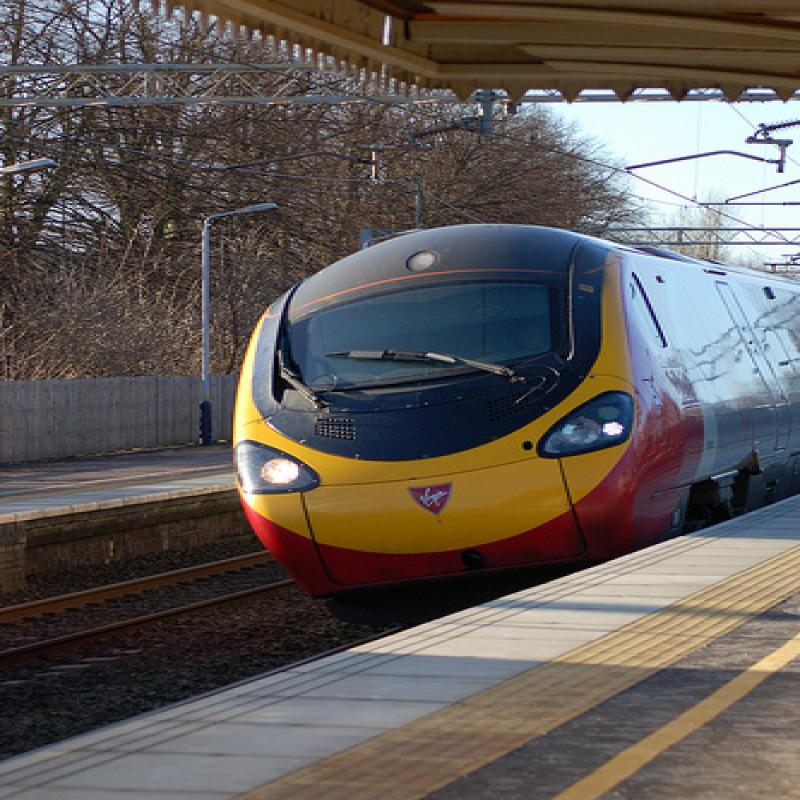train: (234, 227, 800, 620)
